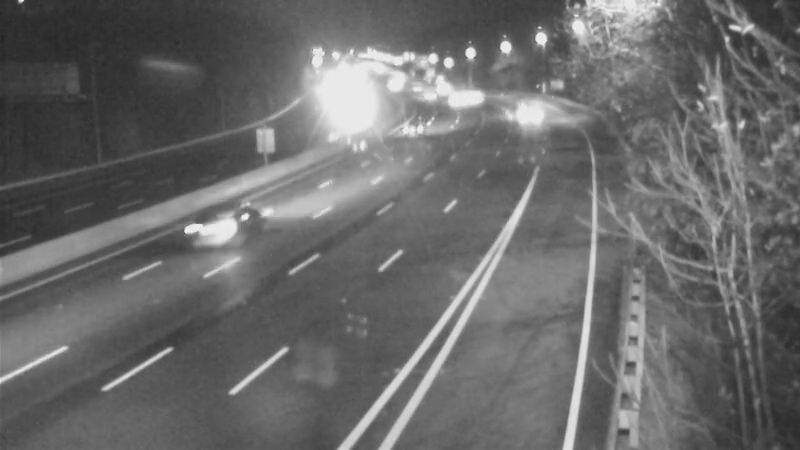vehicle: (175, 179, 255, 259), (413, 61, 463, 111), (402, 68, 452, 118), (427, 74, 477, 124), (449, 70, 499, 120), (501, 84, 551, 134), (390, 101, 440, 151)
